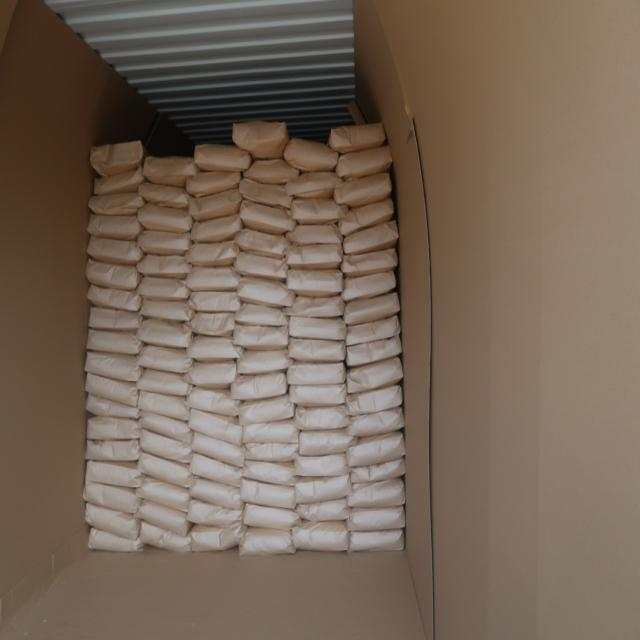gunny_bag: (233, 121, 290, 160), (346, 358, 404, 396), (338, 198, 396, 236), (345, 432, 404, 468), (342, 222, 400, 258), (137, 452, 196, 487), (332, 172, 392, 206), (342, 292, 400, 327), (336, 146, 393, 181), (92, 140, 147, 176), (240, 200, 298, 234), (84, 504, 140, 539), (137, 478, 192, 513), (346, 478, 406, 510), (282, 138, 338, 172), (346, 335, 403, 368), (136, 502, 191, 536), (344, 384, 402, 416), (82, 482, 140, 514), (188, 188, 242, 222), (188, 410, 242, 444), (190, 433, 244, 467), (141, 154, 198, 186), (292, 520, 349, 552), (284, 170, 344, 200), (238, 276, 298, 306), (240, 478, 298, 509), (345, 407, 403, 438), (238, 394, 294, 426), (346, 314, 402, 346), (188, 478, 244, 510), (85, 373, 139, 406), (192, 144, 251, 174), (85, 350, 142, 381), (341, 270, 396, 302), (140, 431, 193, 464), (230, 372, 288, 402), (328, 124, 386, 154), (294, 474, 352, 504), (236, 229, 294, 259), (239, 526, 297, 556), (188, 454, 242, 486), (189, 525, 246, 555), (342, 248, 399, 278), (286, 269, 344, 298), (86, 260, 142, 290), (240, 178, 296, 208), (138, 320, 194, 350), (138, 521, 192, 552), (290, 198, 349, 226), (235, 252, 290, 282), (87, 237, 143, 266), (298, 428, 356, 456), (87, 462, 145, 490), (140, 202, 194, 232), (237, 348, 294, 376), (243, 504, 302, 531), (187, 386, 240, 416), (139, 412, 192, 442), (350, 455, 406, 483), (138, 344, 194, 372), (234, 324, 290, 352), (137, 370, 193, 398), (188, 499, 244, 527), (184, 170, 242, 197), (244, 160, 302, 187), (283, 293, 345, 318), (139, 392, 192, 421), (284, 243, 343, 269), (190, 215, 242, 244), (292, 406, 350, 432), (346, 507, 406, 532), (286, 316, 346, 341), (243, 418, 300, 444), (242, 459, 299, 485), (87, 284, 141, 311), (184, 362, 238, 389), (87, 215, 143, 241), (87, 526, 143, 552), (187, 336, 243, 362), (294, 498, 350, 524), (184, 266, 240, 292), (86, 330, 142, 356), (92, 167, 144, 195), (294, 453, 352, 478), (286, 360, 346, 384), (140, 182, 195, 208), (138, 252, 193, 278), (186, 240, 240, 266), (138, 231, 194, 256), (288, 338, 346, 362), (348, 528, 405, 552), (137, 276, 191, 301), (234, 303, 290, 327), (287, 222, 345, 245), (186, 310, 236, 336), (288, 384, 347, 406), (87, 416, 141, 440), (140, 298, 194, 322), (85, 396, 139, 420), (88, 193, 144, 216), (86, 441, 142, 464), (188, 290, 241, 314), (88, 308, 140, 332), (245, 442, 300, 463)
